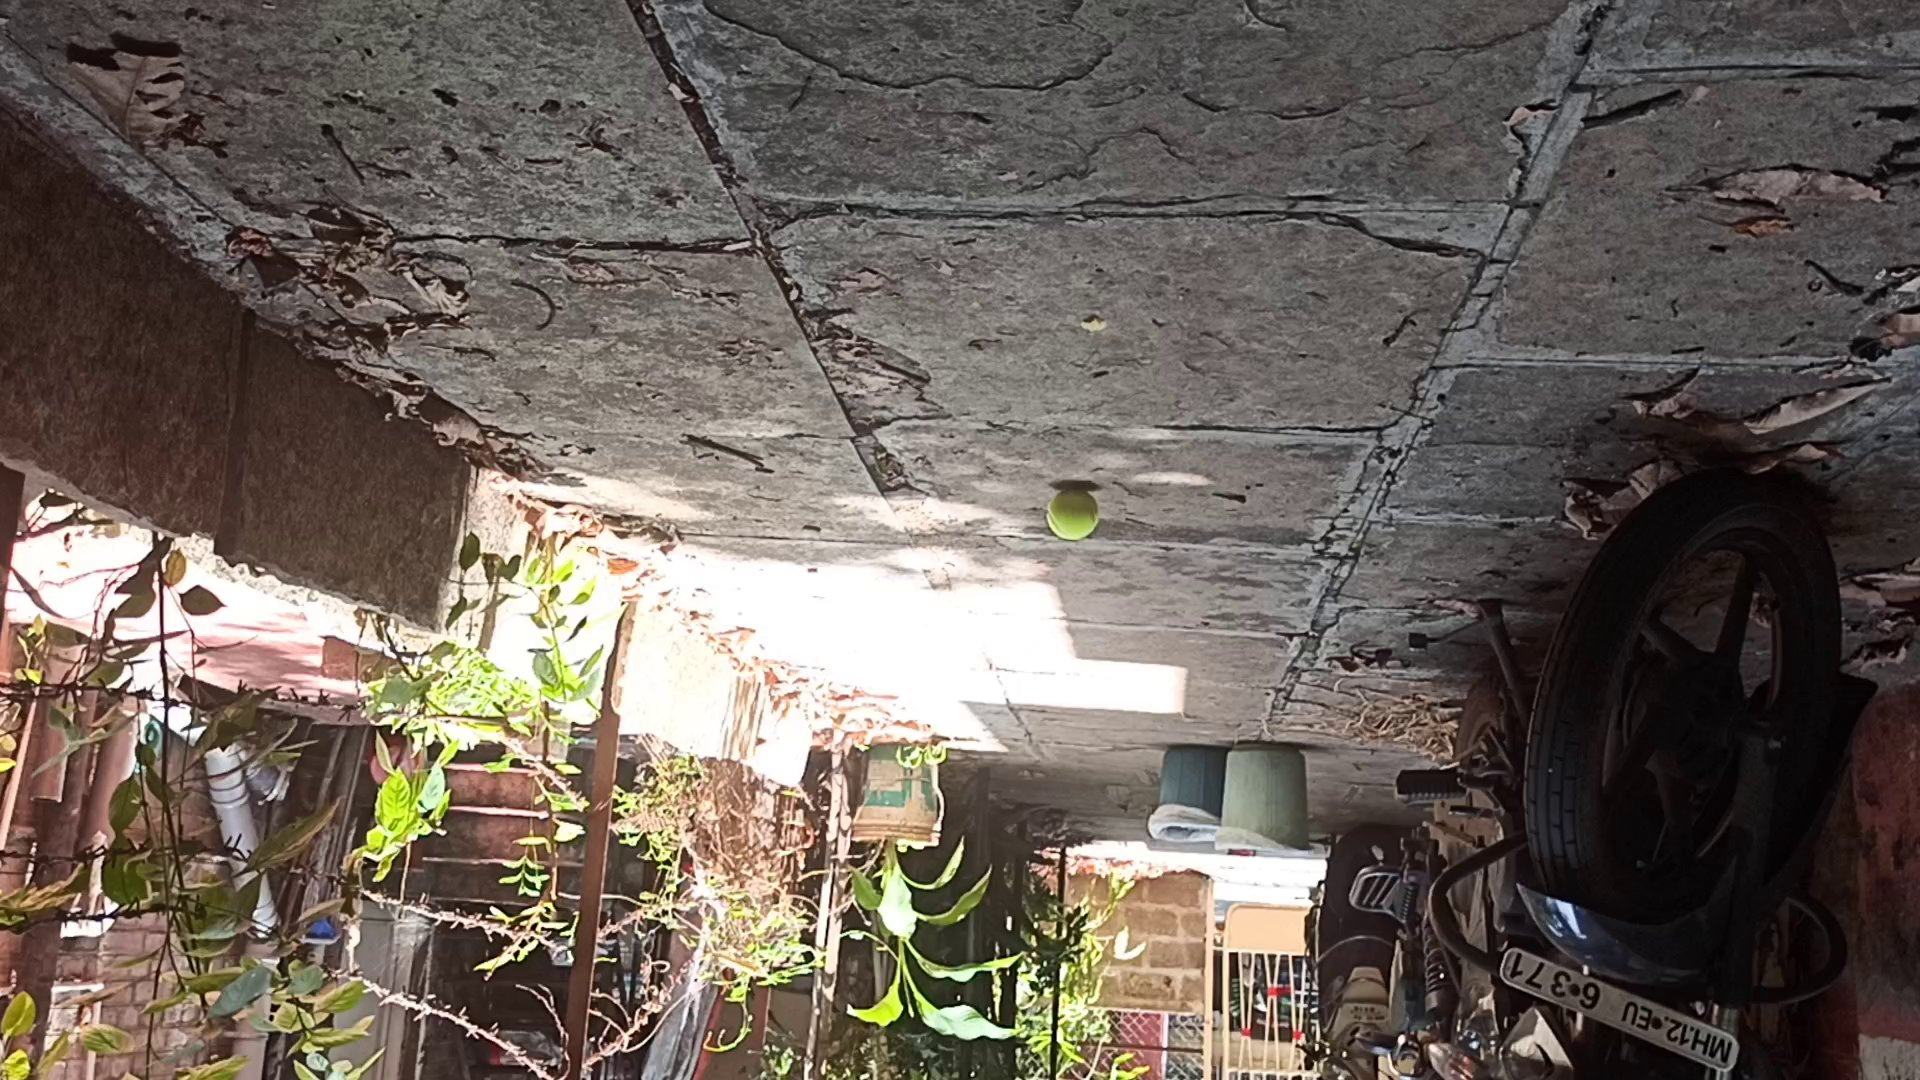Tennis-Ball: (1043, 483, 1098, 541)
